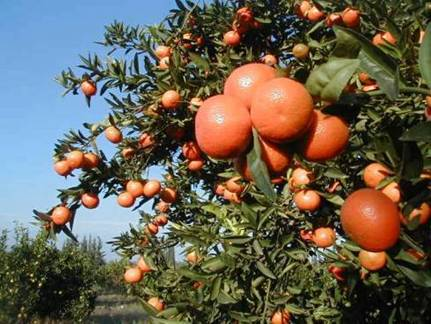portakal: (337, 182, 403, 253), (138, 297, 178, 316), (75, 74, 103, 101), (47, 204, 74, 229), (100, 120, 124, 145), (123, 267, 146, 288), (183, 247, 204, 268), (119, 195, 136, 210)
